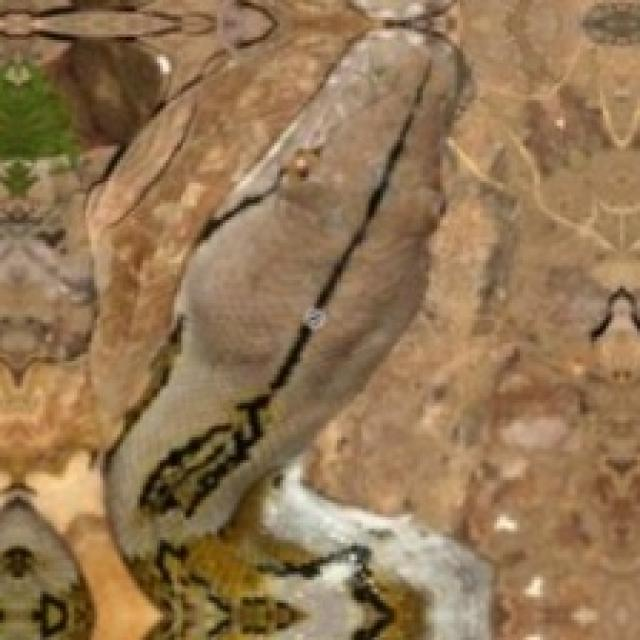reticulated python: (106, 30, 491, 640)
